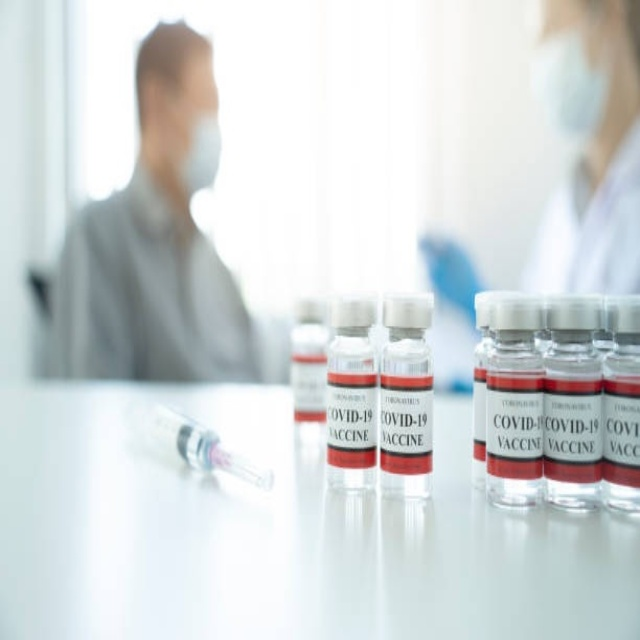Mascara: (530, 26, 611, 137), (181, 112, 222, 191)
